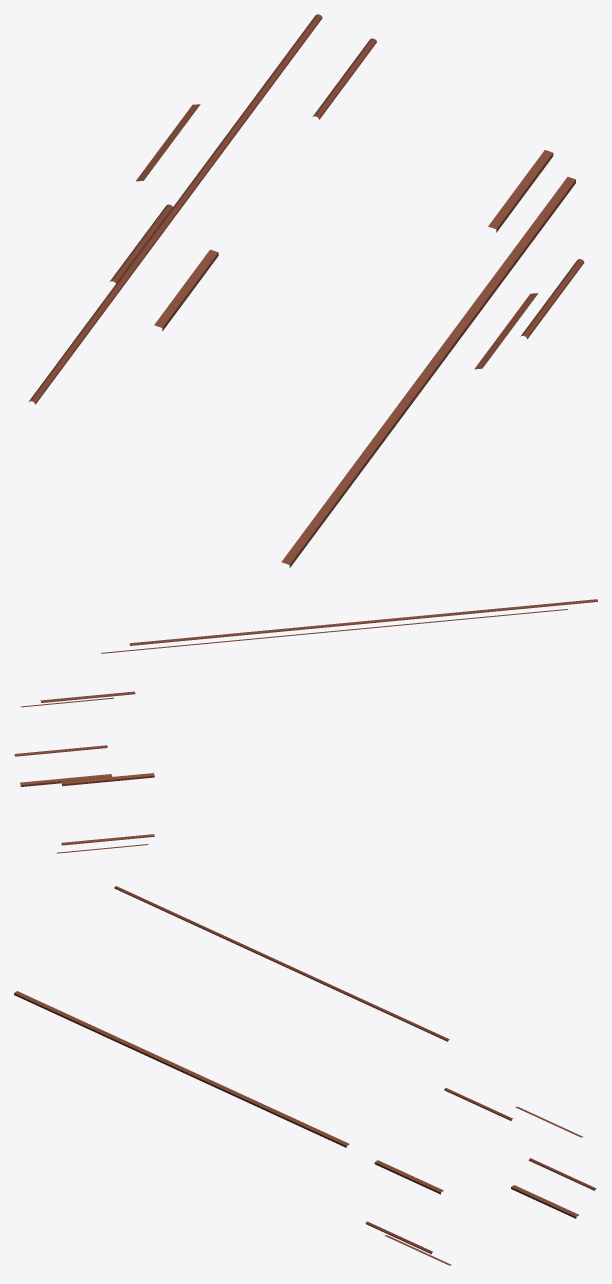
The picture shows the model from 3 angles, top to bottom: view 1: azimuth 30°, elevation 25°; view 2: azimuth 150°, elevation 25°; view 3: azimuth 270°, elevation 25°; orthographic projection. The views are drawn at different scales.
Parts seen in each view (by area): view 1: detail; view 2: detail; view 3: detail.
Part boxes in pixels (x1,y1,x2,y2): detail: (28, 14, 584, 567); detail: (14, 599, 597, 853); detail: (14, 886, 596, 1265).
Size of the model in its own units: 36.49 by 13.76 by 41.6.
